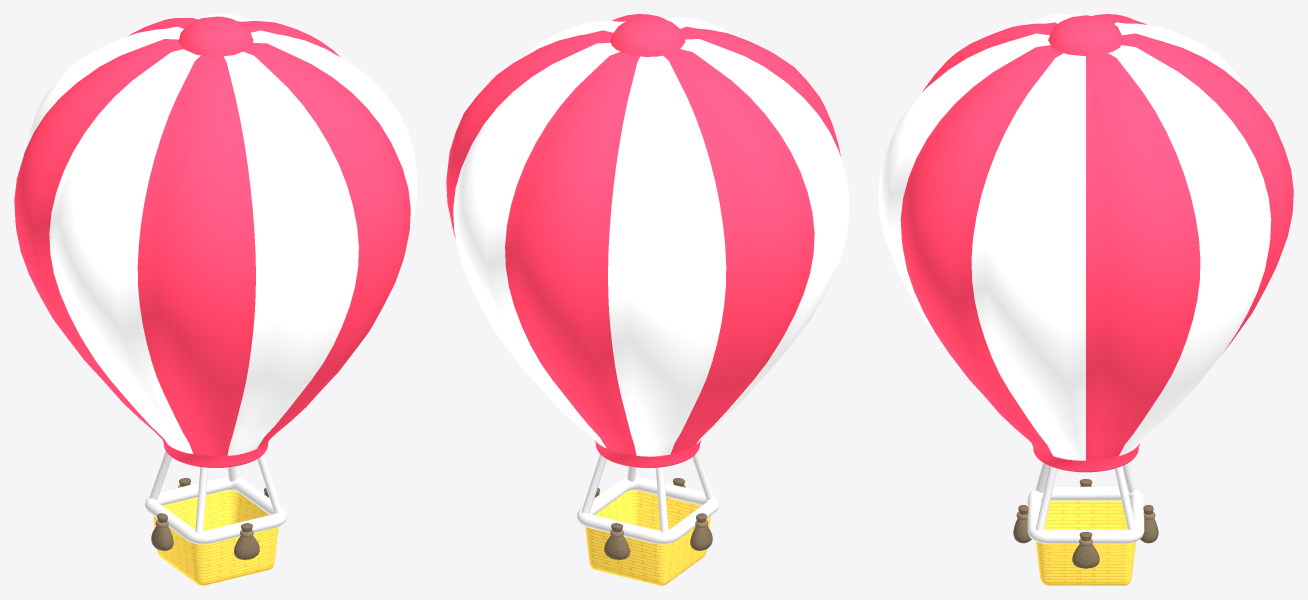
File: elium-v1-transformed.glb
3 renders of one model, left to right at view 1: azimuth 30°, elevation 25°; view 2: azimuth 150°, elevation 25°; view 3: azimuth 270°, elevation 25°, orthographic.
Parts seen in each view (by area): view 1: balloon; view 2: balloon; view 3: balloon.
Part boxes in pixels (x1,y1,x2,y2): balloon: (14,14,417,585); balloon: (446,14,849,585); balloon: (878,14,1293,585).
Size of the model in its own units: 289 by 436 by 299.
Materials: 1 (1 with a texture image).
